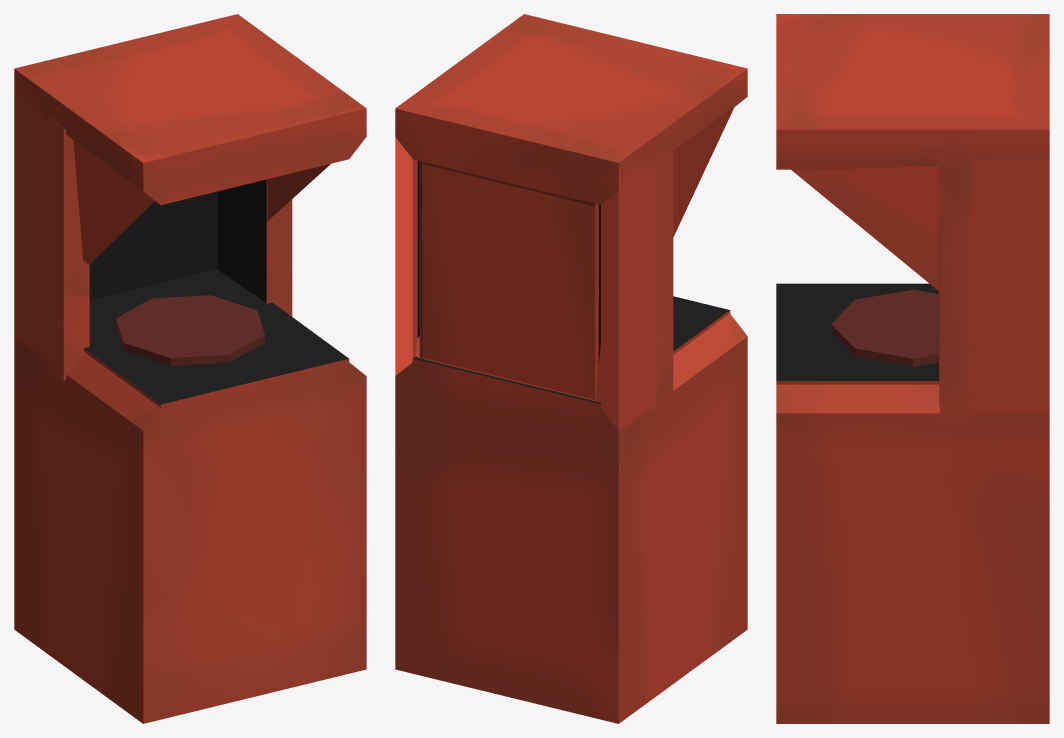
The model's file is Carga.fbx.
3 renders of one model, left to right at view 1: azimuth 30°, elevation 25°; view 2: azimuth 150°, elevation 25°; view 3: azimuth 270°, elevation 25°, orthographic. The views are drawn at different scales.
Parts seen in each view (by area): view 1: Cube; view 2: Cube; view 3: Cube.
Part boxes in pixels (x1,y1,x2,y2): Cube: (14, 14, 366, 723); Cube: (395, 14, 747, 723); Cube: (776, 14, 1049, 723).
Size of the model in its own units: 204 by 480 by 200.
1 material, 1 textured.
